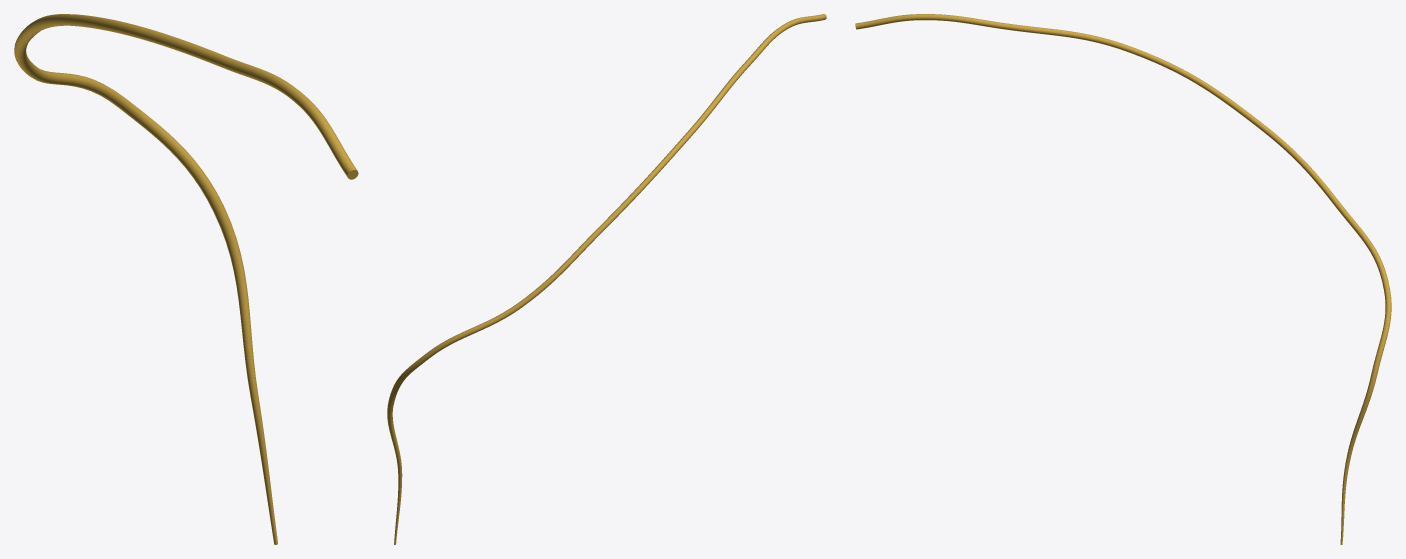
The picture shows the model from 3 angles, left to right: view 1: azimuth 30°, elevation 25°; view 2: azimuth 150°, elevation 25°; view 3: azimuth 270°, elevation 25°; orthographic projection. The views are drawn at different scales.
Visible parts, largest first — view 1: 右侧舌神经; view 2: 右侧舌神经; view 3: 右侧舌神经.
Boxes of the visible parts, x1,y1,x2,y2 form: 右侧舌神经: (14, 14, 358, 544); 右侧舌神经: (387, 14, 826, 544); 右侧舌神经: (855, 14, 1391, 544).
Bounding box in the file's own units: 0.0336 × 0.0677 × 0.0757.
